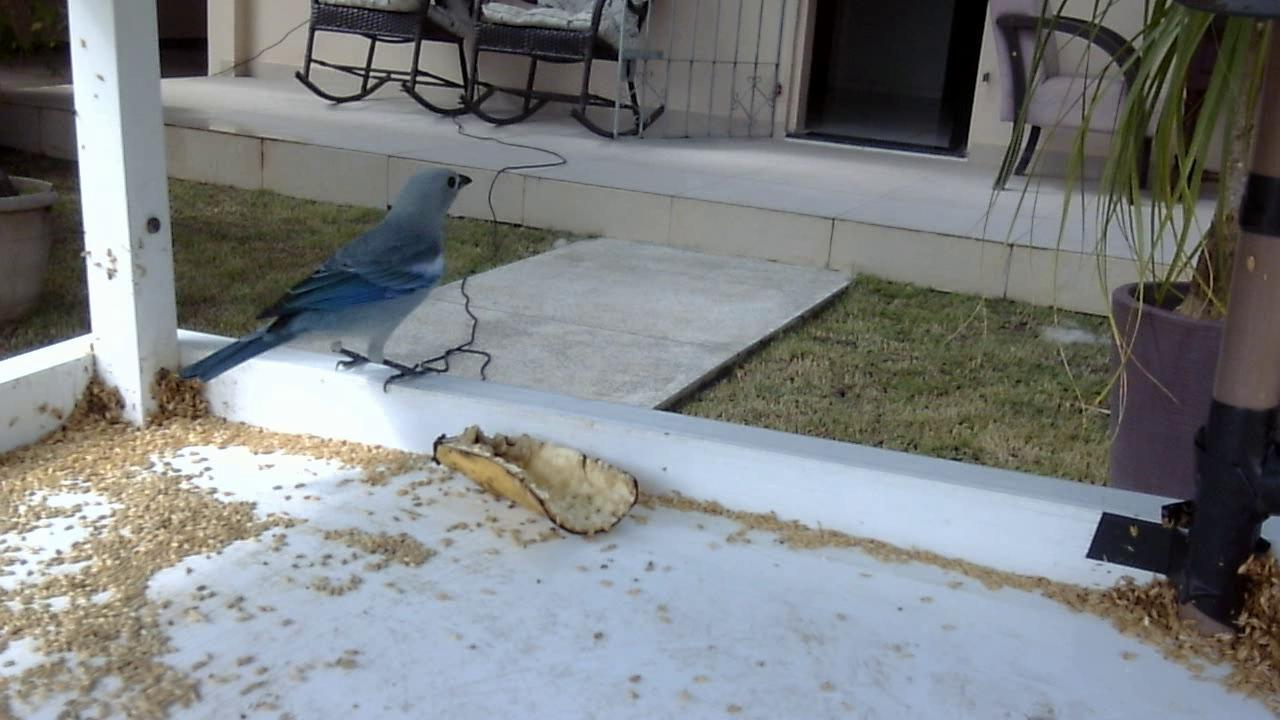sanhaco_da_amazonia: (173, 170, 482, 398)
